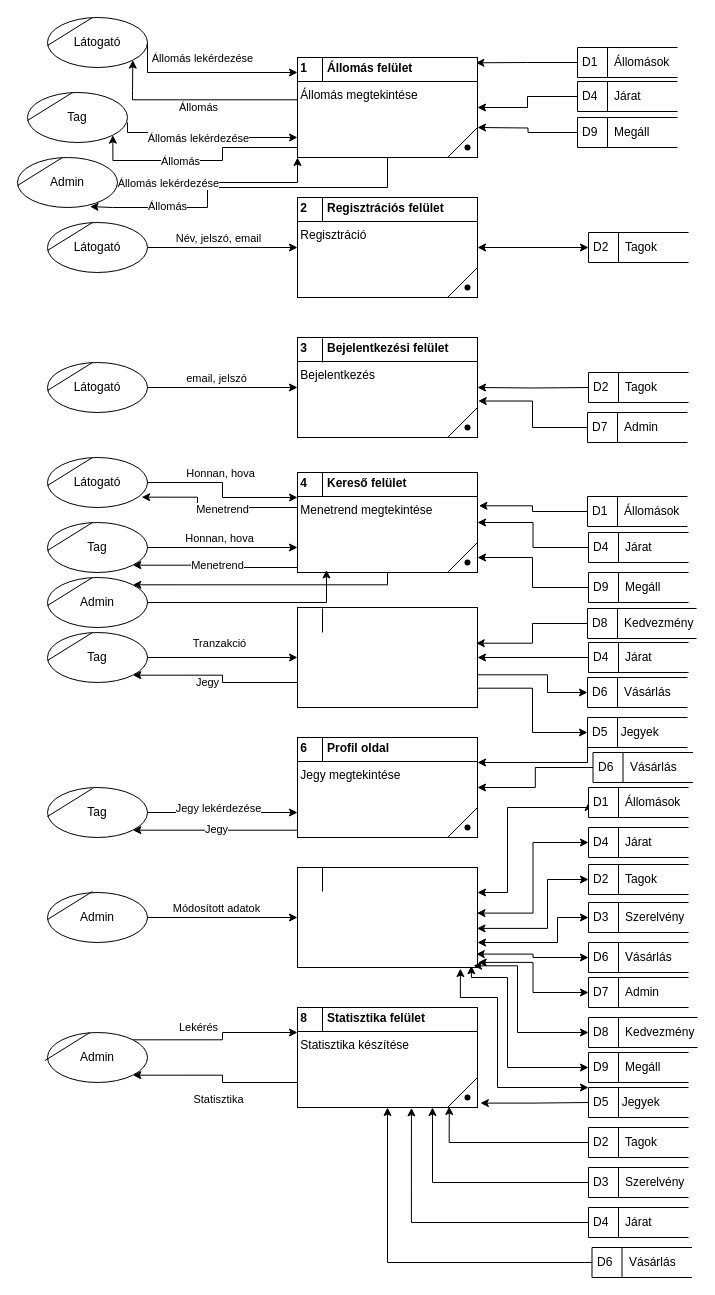
Some shapes in this 715 by 1295 pixel diagram are drawn without their labels. The centre of each missing label's shape, as x and y in pixels:
5 Vásárlási felület Jegy vásárlás: [387,657]
7 Admin oldal Városok, állomások, vonatok, jegyek, menetrendek, tagok kezelése: [387,917]
